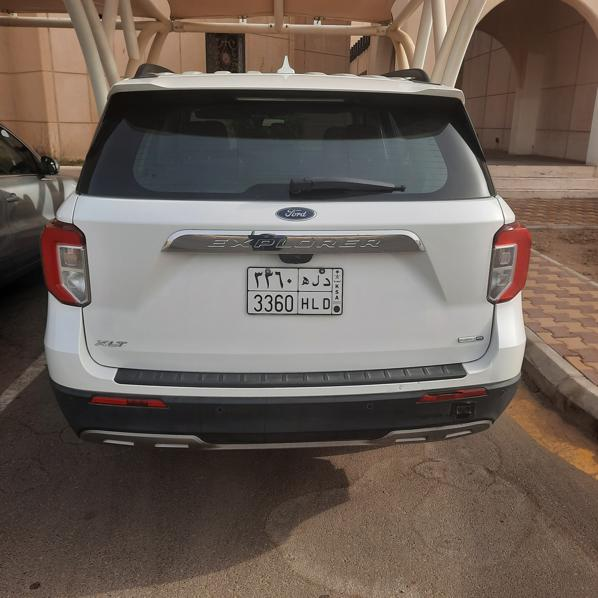numberplate: (246, 266, 345, 315)
